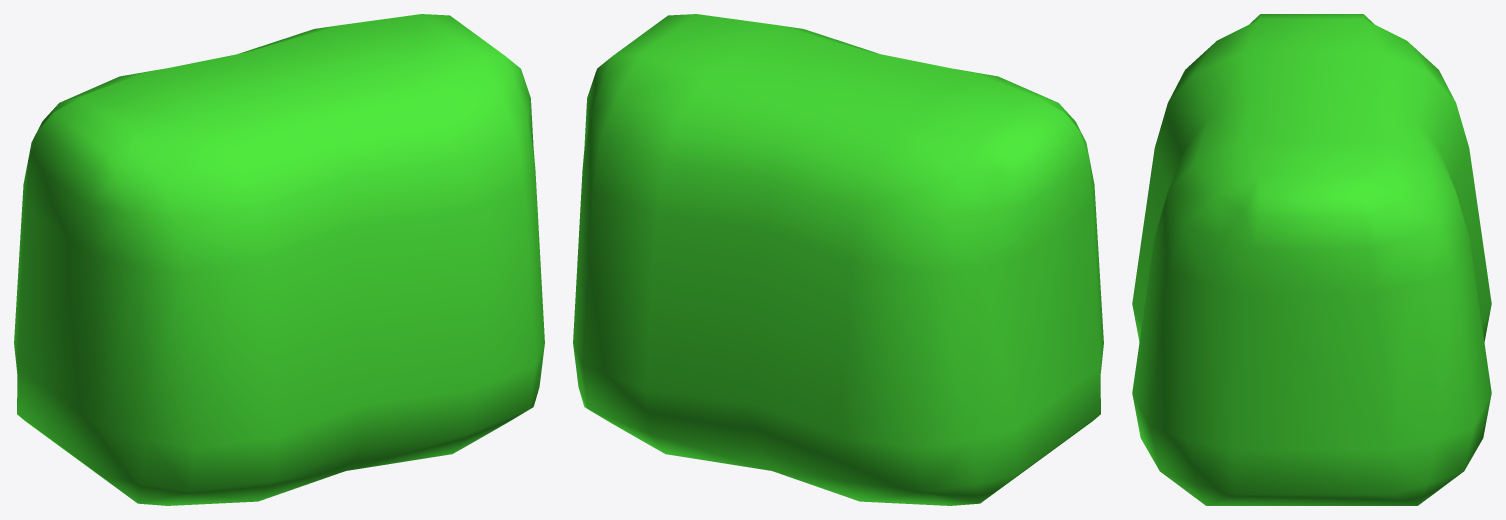
3 renders of one model, left to right at view 1: azimuth 30°, elevation 25°; view 2: azimuth 150°, elevation 25°; view 3: azimuth 270°, elevation 25°, orthographic. The views are drawn at different scales.
Parts seen in each view (by area): view 1: hedge_straight; view 2: hedge_straight; view 3: hedge_straight.
Part boxes in pixels (x1,y1,x2,y2): hedge_straight: (14, 14, 544, 505); hedge_straight: (573, 14, 1103, 505); hedge_straight: (1132, 14, 1491, 505).
Size of the model in its own units: 2 by 1.5 by 1.5.
